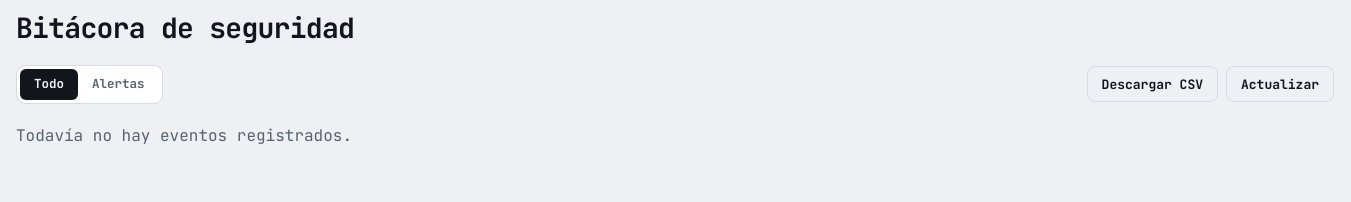
it: PaginaBitacora › descargar CSV › avisa si no se pudo descargar y no entrega nada
Expected: the text "Todavía no hay eventos registrados." is shown, x1=16 y1=125 x2=352 y2=146
Click the button "Descargar CSV". click: coordinates (1152, 84)
box: x1=1087 y1=66 x2=1218 y2=102
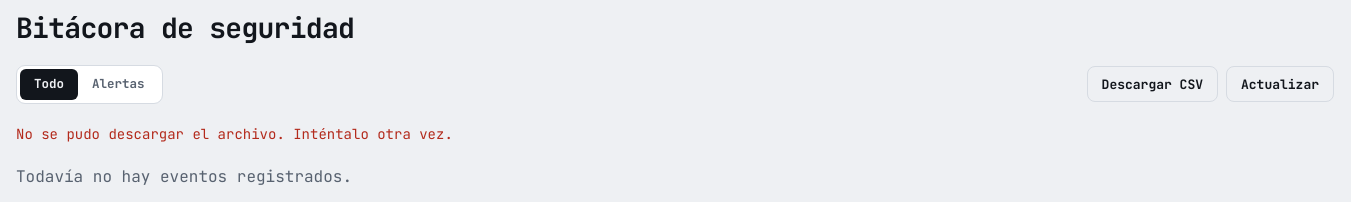
Result: the message shows "No se pudo descargar el archivo" at x1=16 y1=125 x2=453 y2=143
